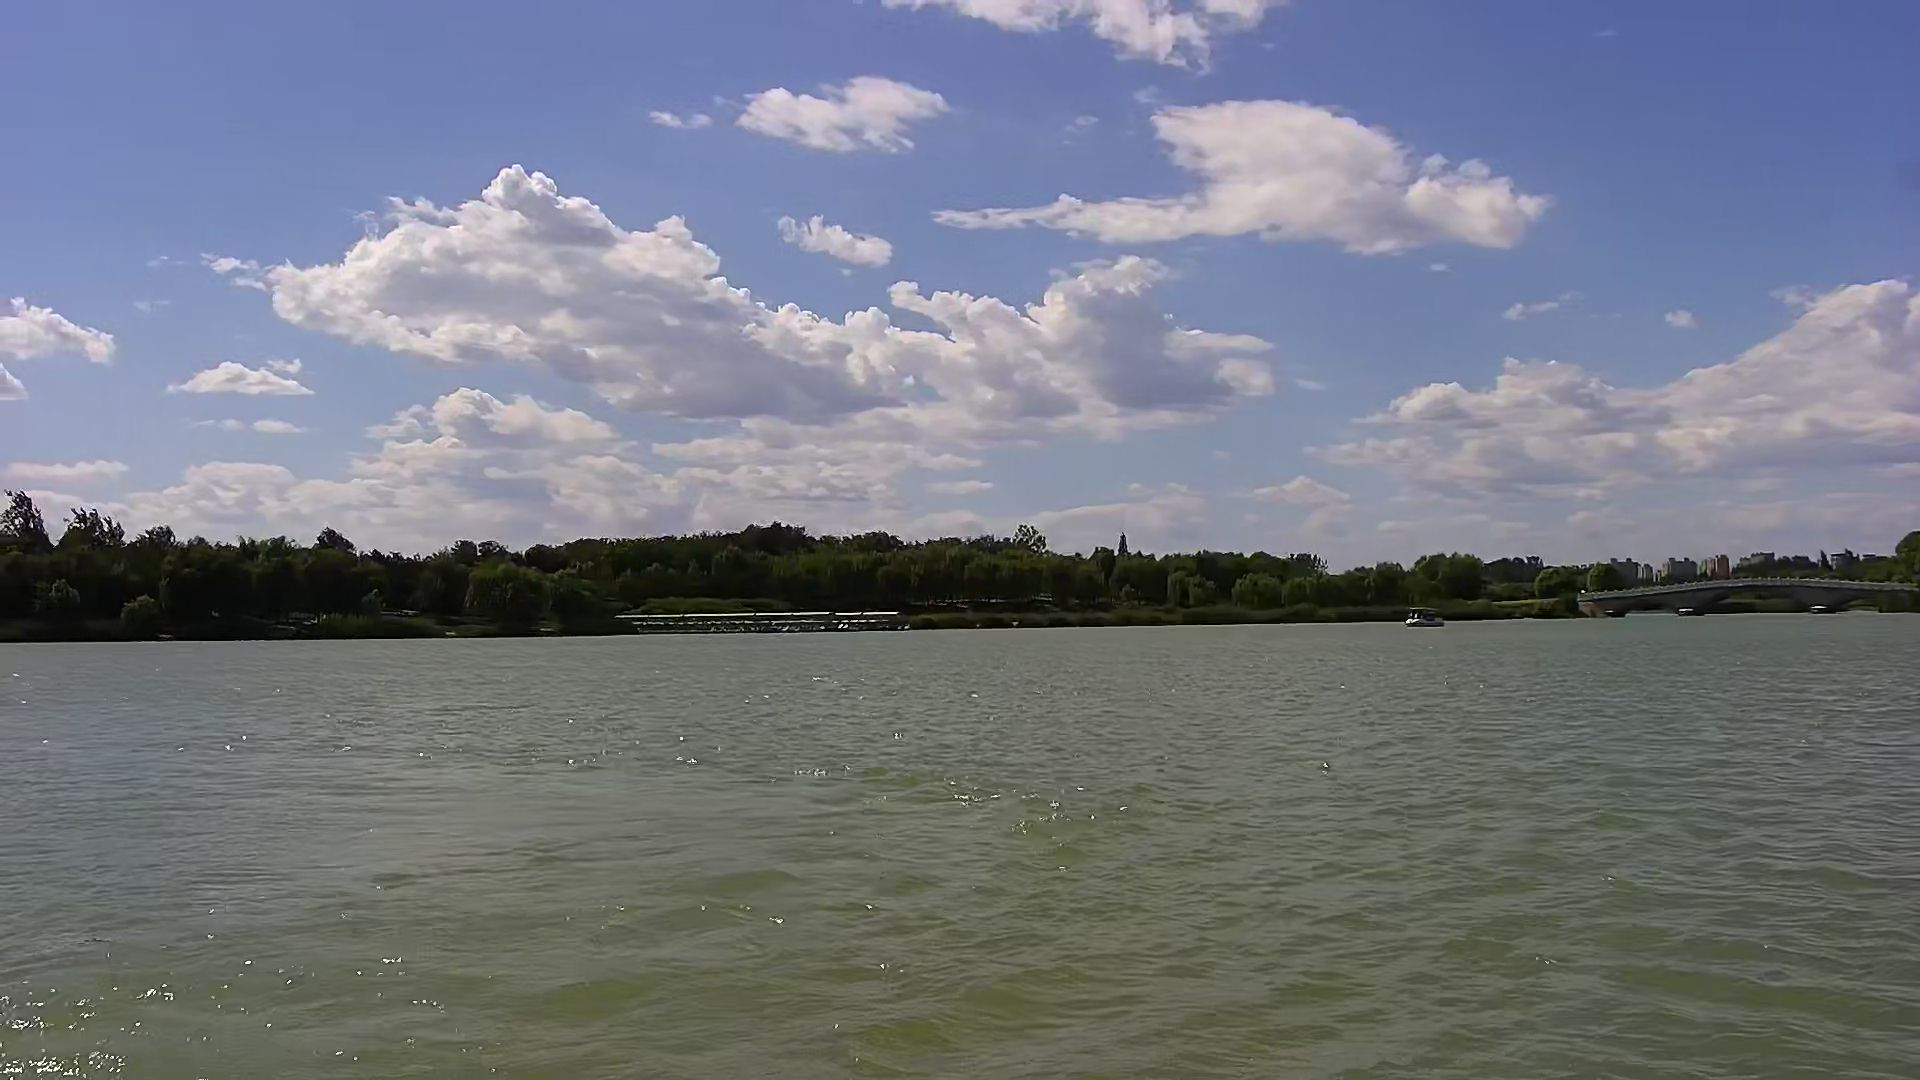boat: (1400, 607, 1445, 626)
bridge: (1576, 578, 1915, 617), (618, 612, 902, 632)
